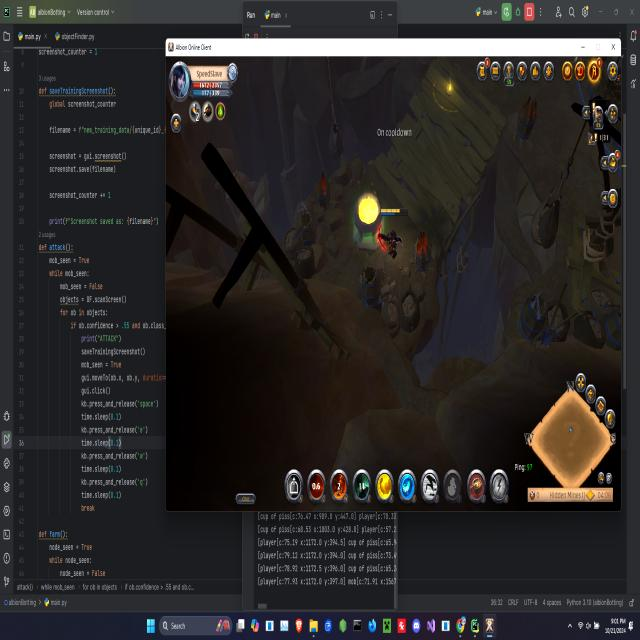fiber: (355, 188, 382, 249)
red: (376, 205, 404, 262)
